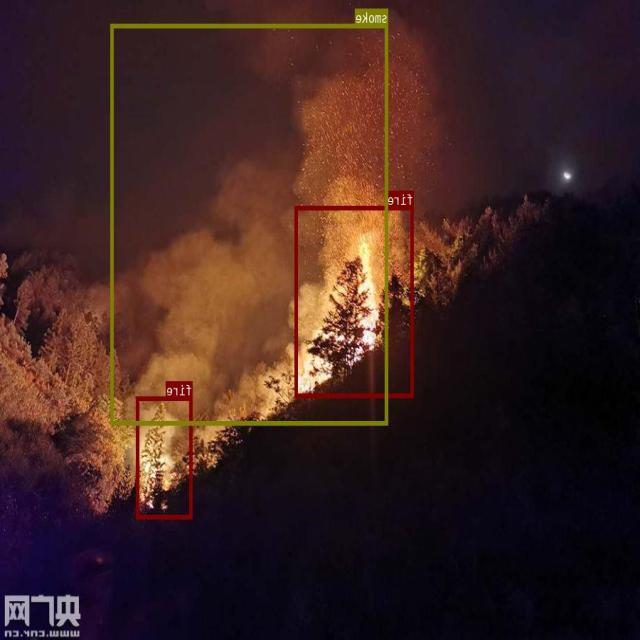fire: (295, 205, 414, 397), (137, 396, 193, 518)
smoke: (111, 23, 389, 424)
